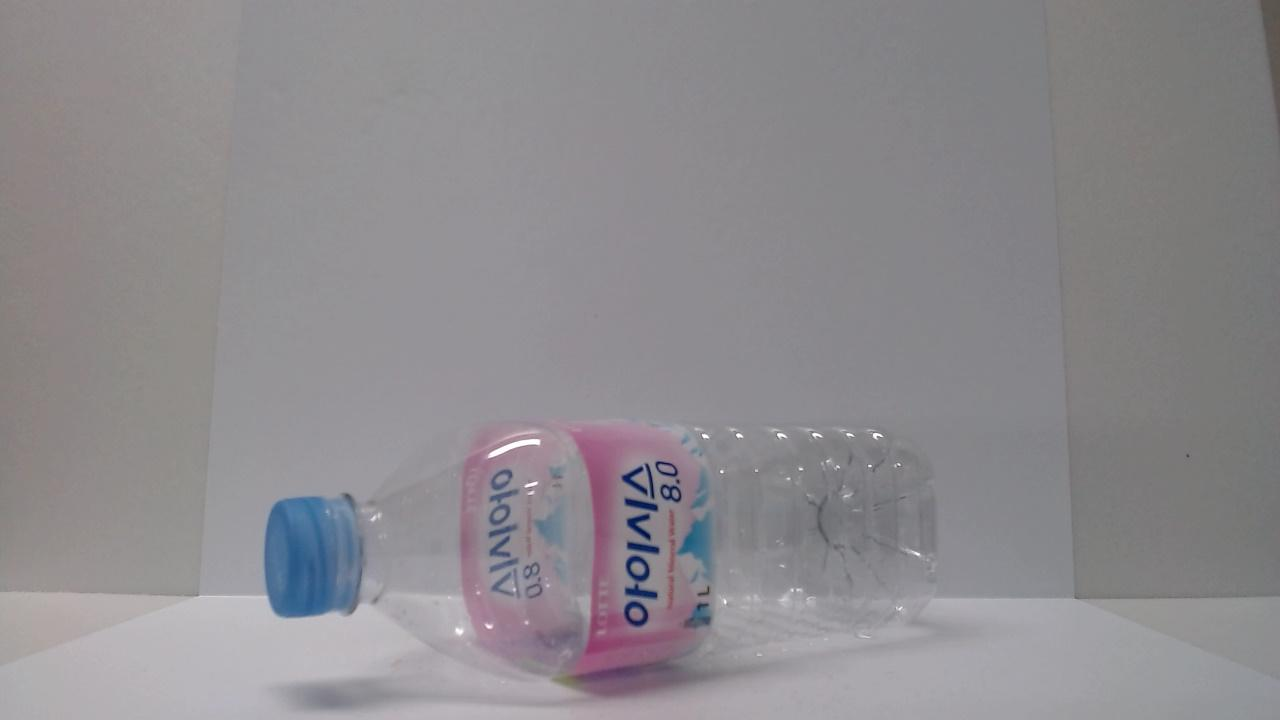bottle: (253, 432, 957, 654)
